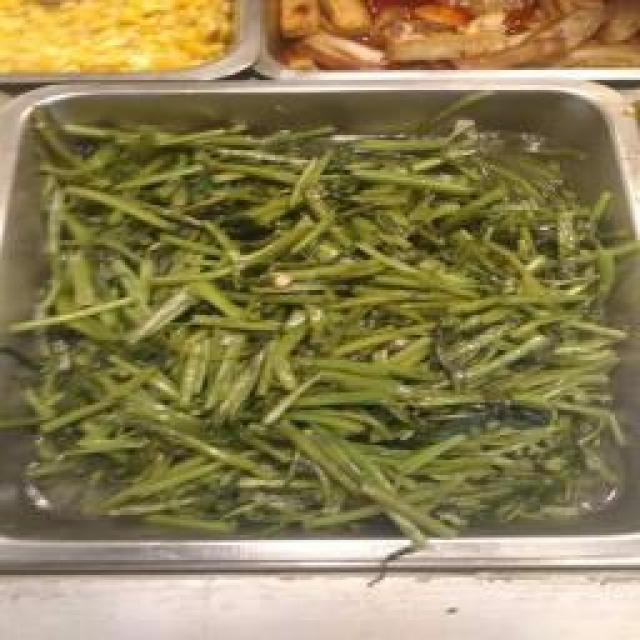Wet Waste: (42, 117, 618, 535)
